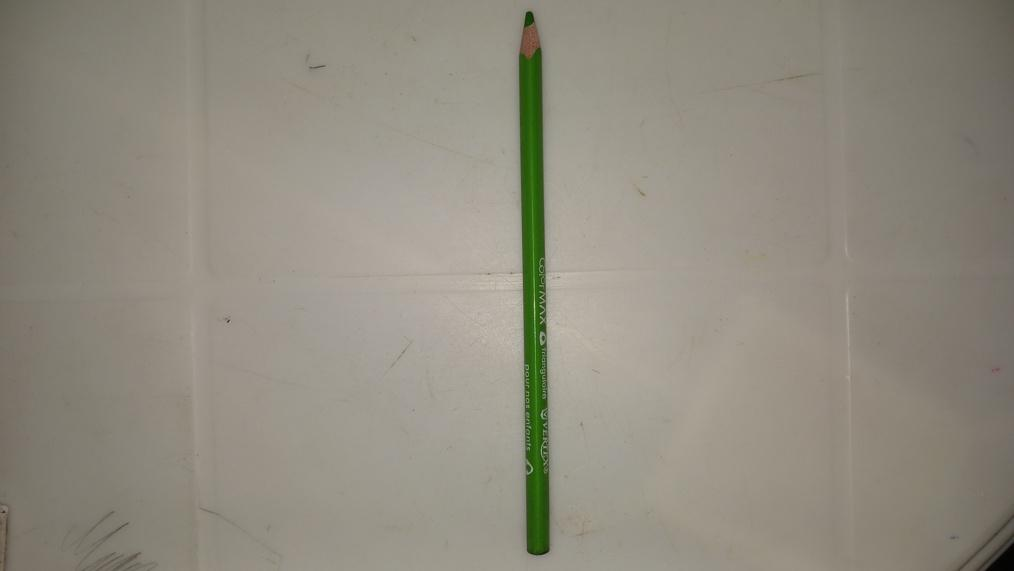Pencil: (520, 9, 547, 560)
